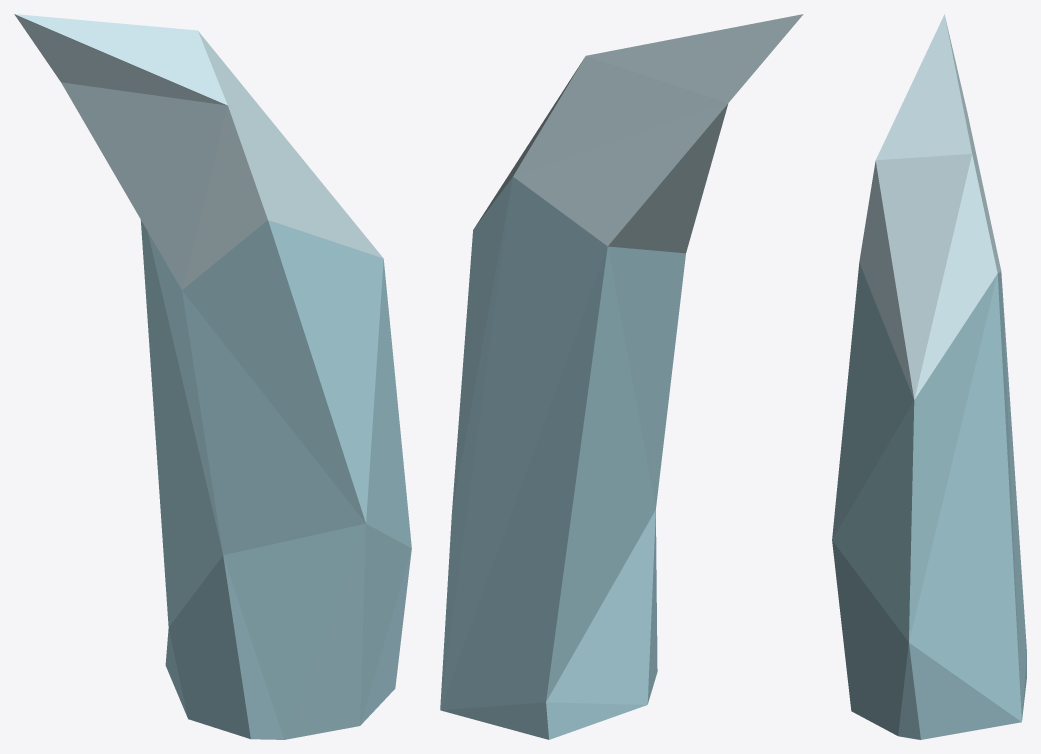
Rendered from sharp_rock_10.fbx.
3 renders of one model, left to right at view 1: azimuth 30°, elevation 25°; view 2: azimuth 150°, elevation 25°; view 3: azimuth 270°, elevation 25°, orthographic. The views are drawn at different scales.
Visible parts, largest first — view 1: sharp_rock_10; view 2: sharp_rock_10; view 3: sharp_rock_10.
Part boxes in pixels (left/top/right/bottom): sharp_rock_10: left=14, top=14, right=411, bottom=739; sharp_rock_10: left=440, top=14, right=803, bottom=739; sharp_rock_10: left=832, top=14, right=1026, bottom=739.
Bounding box in the file's own units: 242 × 456 × 137.
